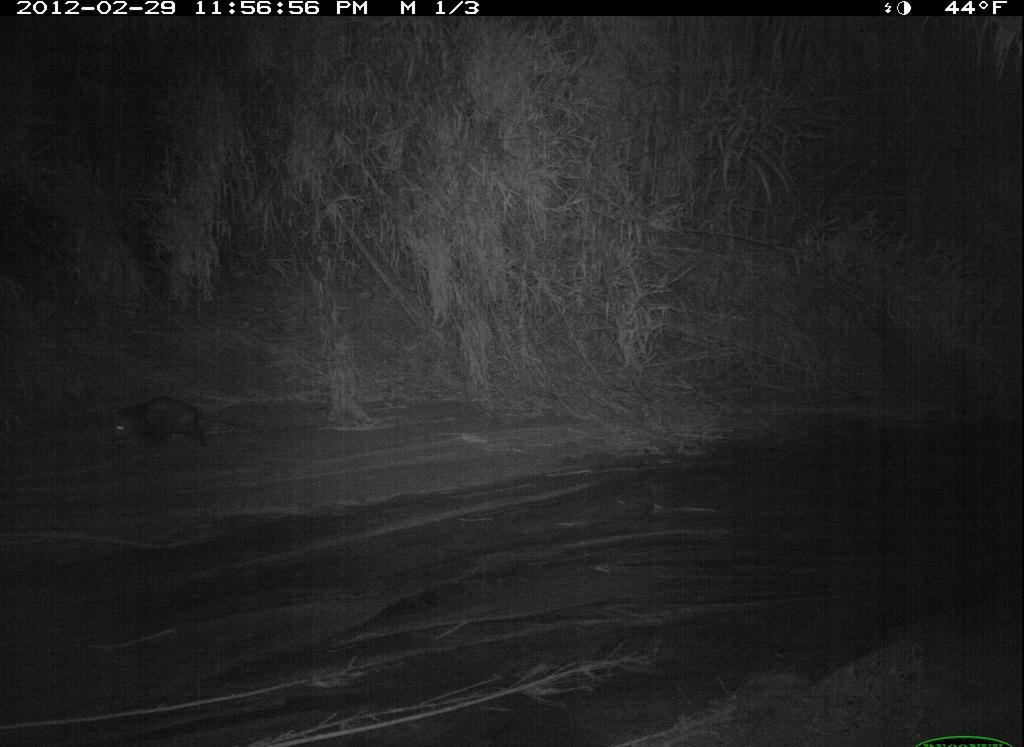opossum: (93, 385, 269, 466)
